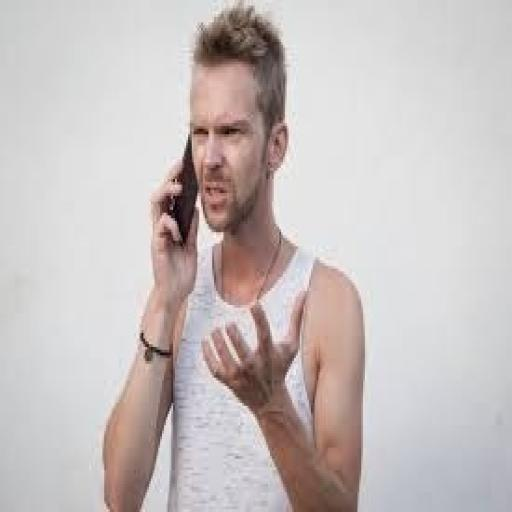calling: (98, 0, 366, 509)
